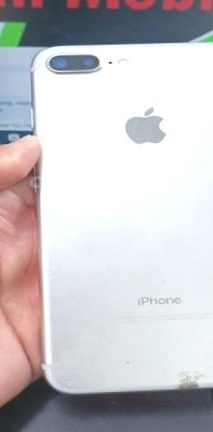scratch: (117, 354, 137, 367)
